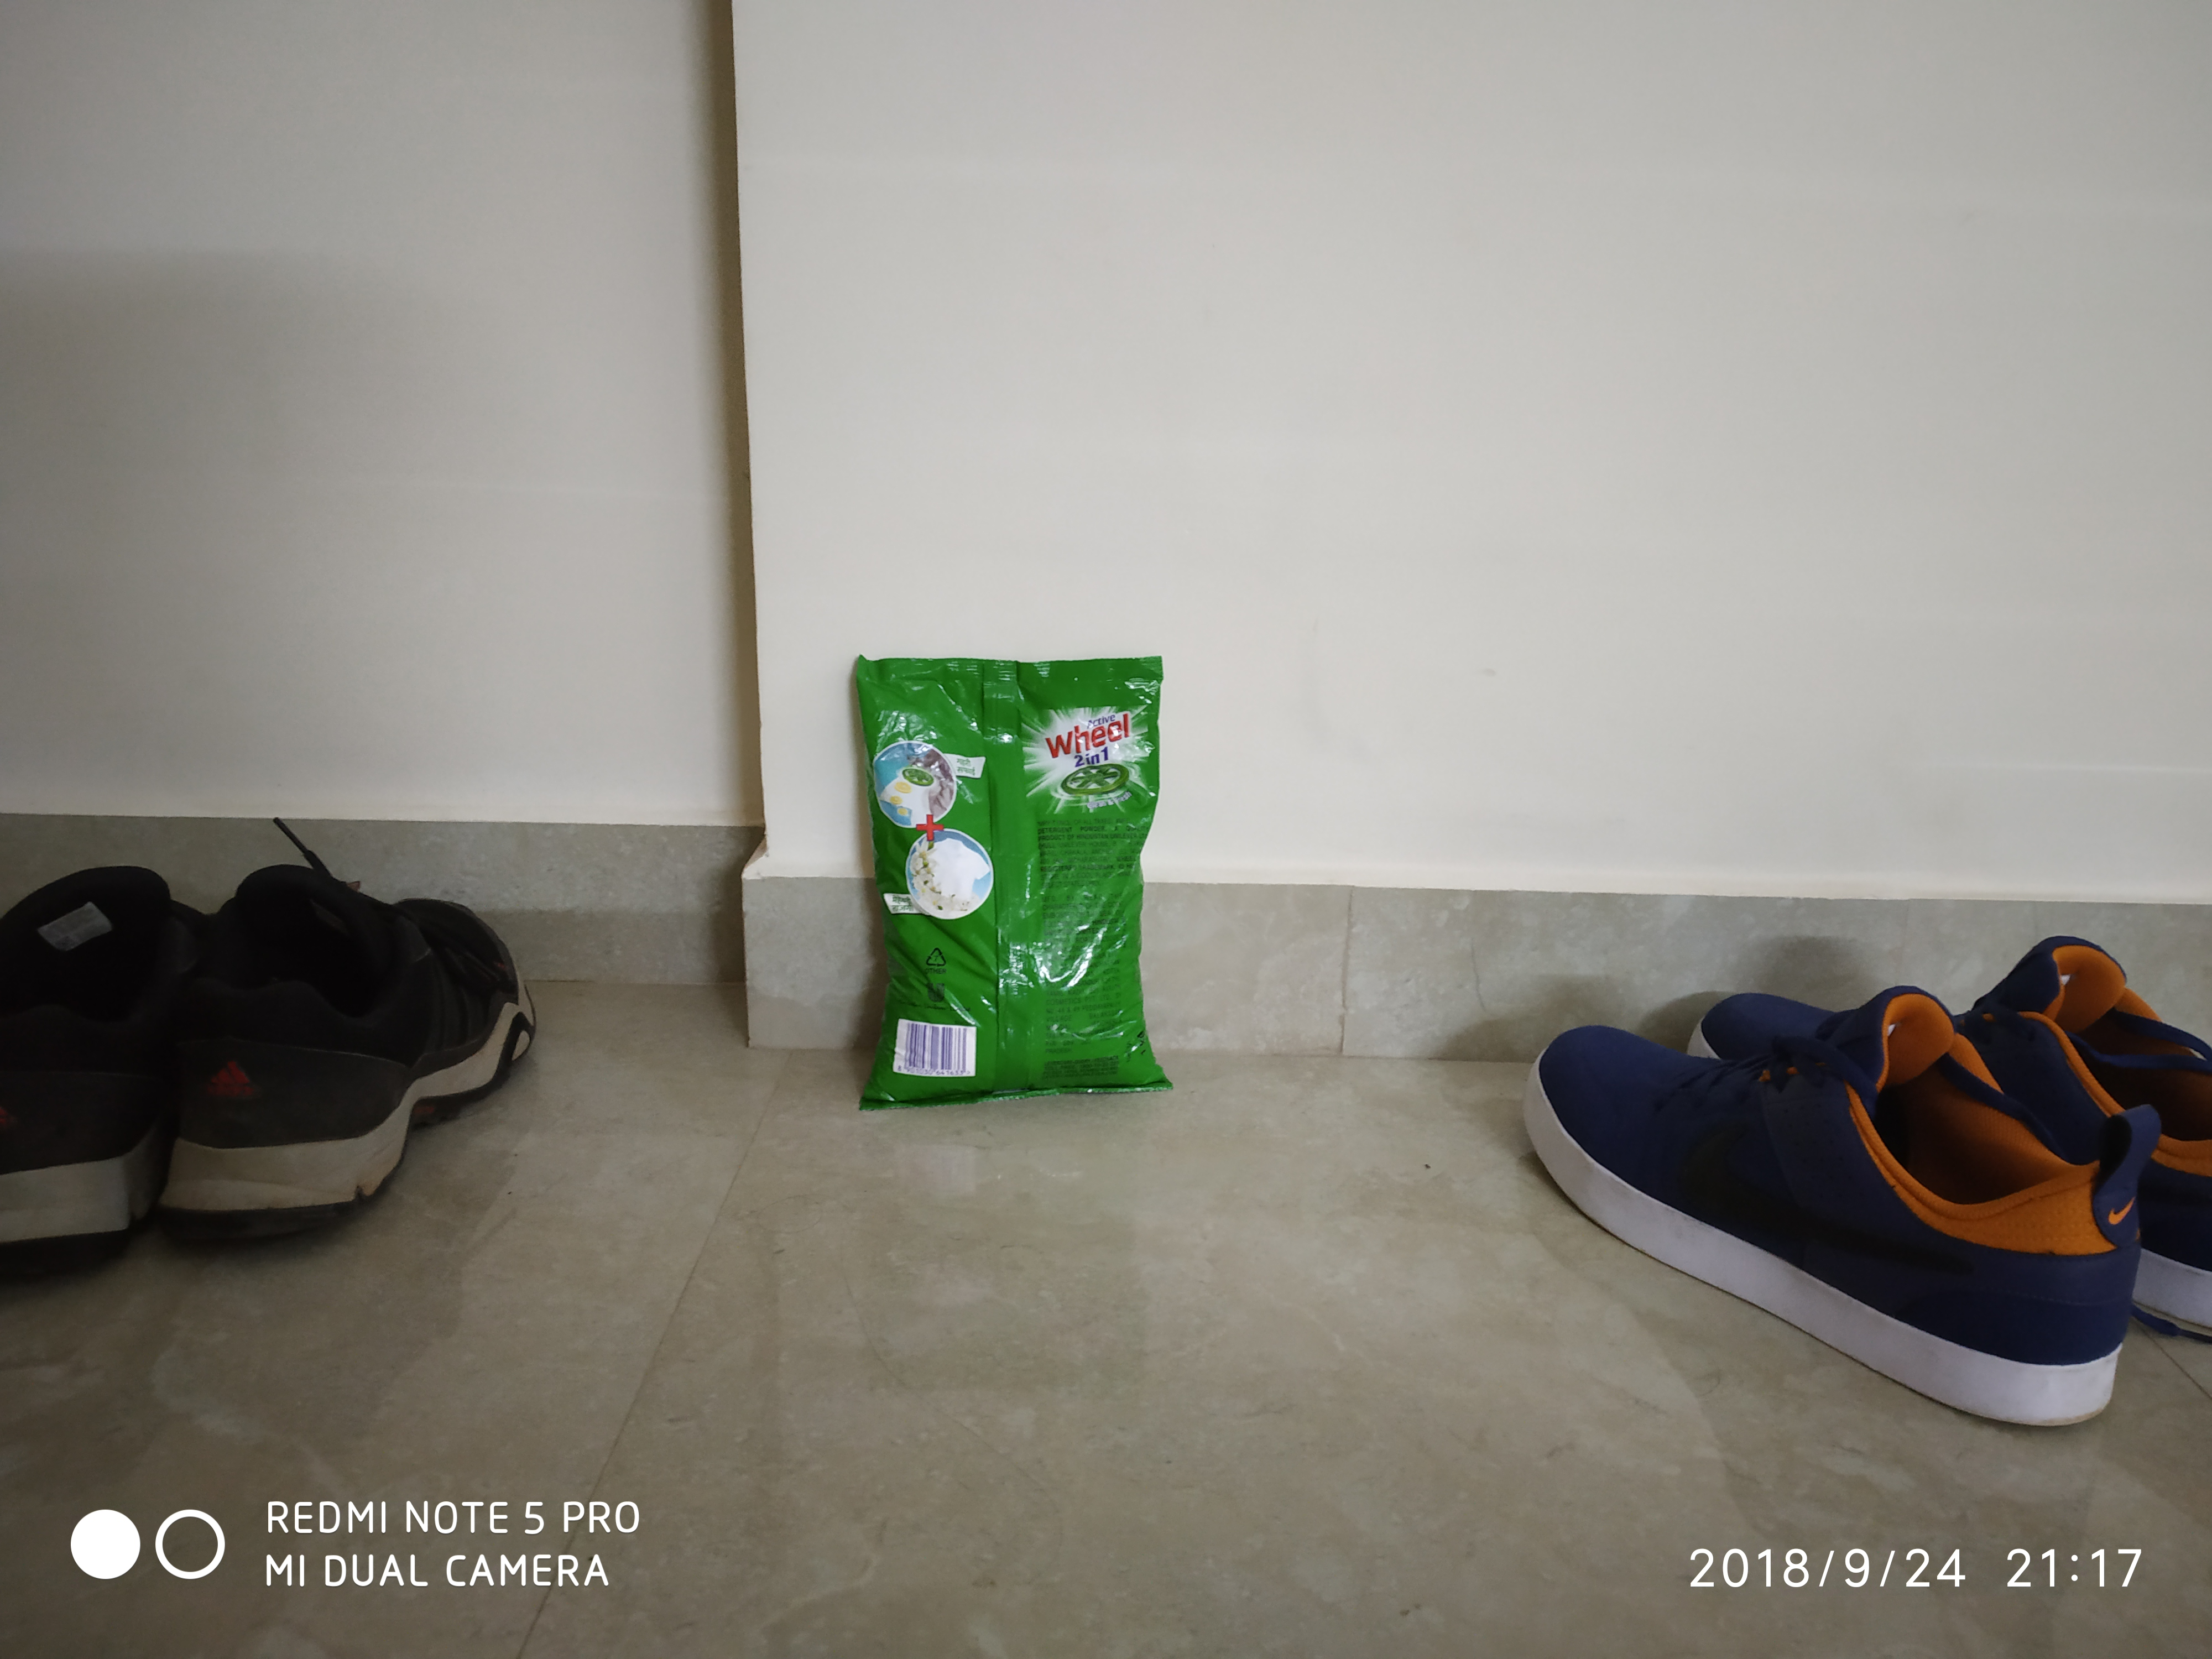detergent: (850, 651, 1167, 1099)
